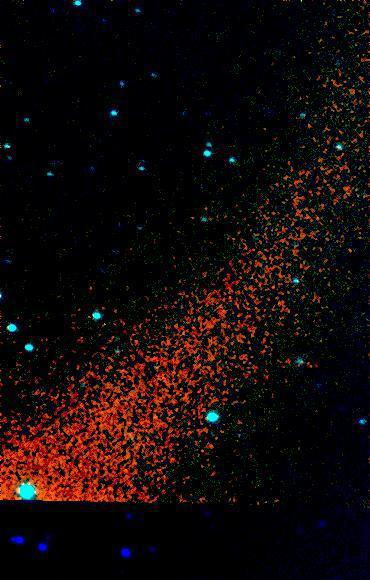star: (284, 86, 314, 116)
